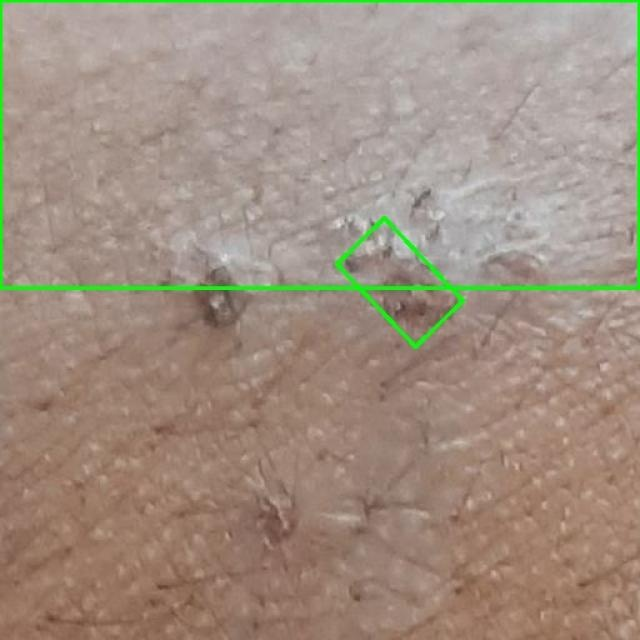Atopic Dermatitis: (0, 0, 639, 288), (337, 219, 463, 347)
